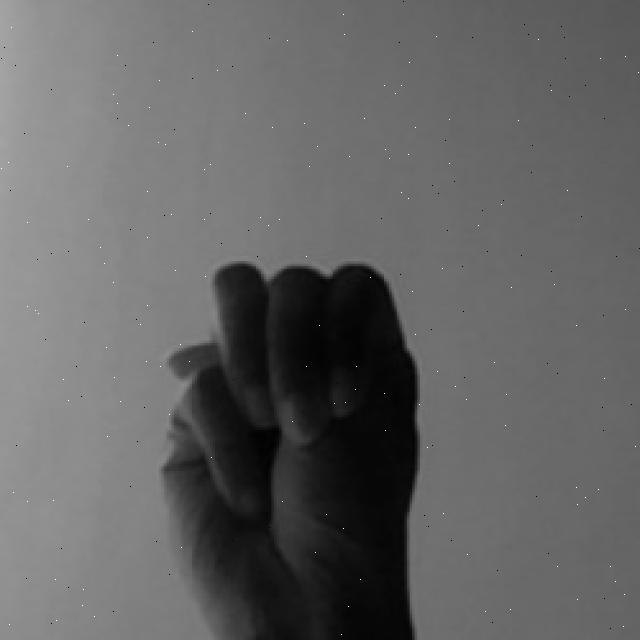M: (151, 251, 428, 640)
